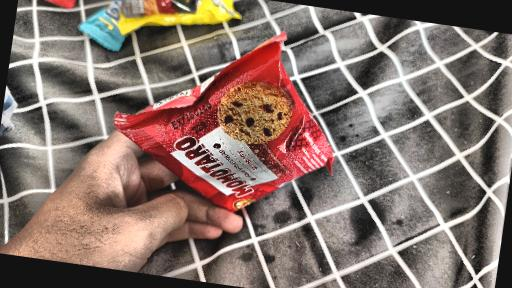momotaro: (107, 17, 355, 247)
